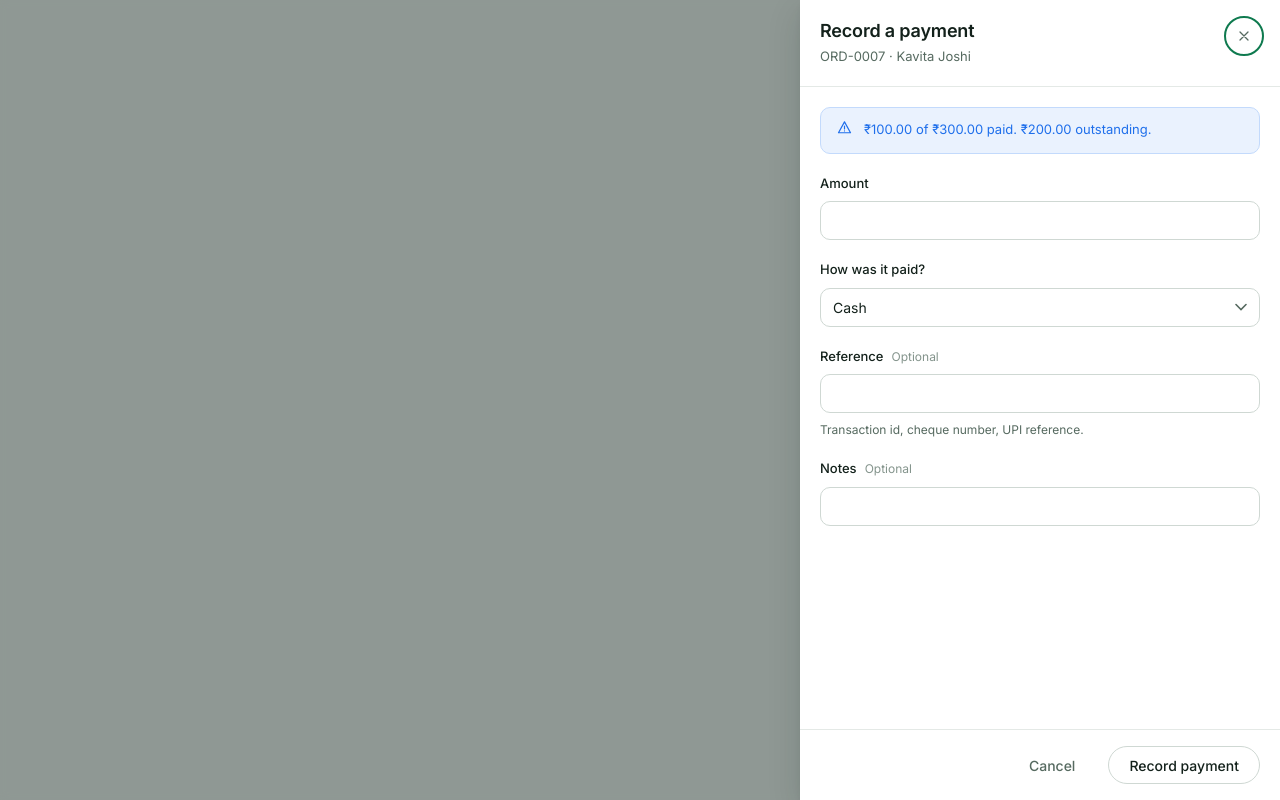
it: OrderPaymentDrawer › refuses an amount of zero
Type "0" into the field labelled "Amount" at (1040, 220), box [820, 201, 1260, 240]
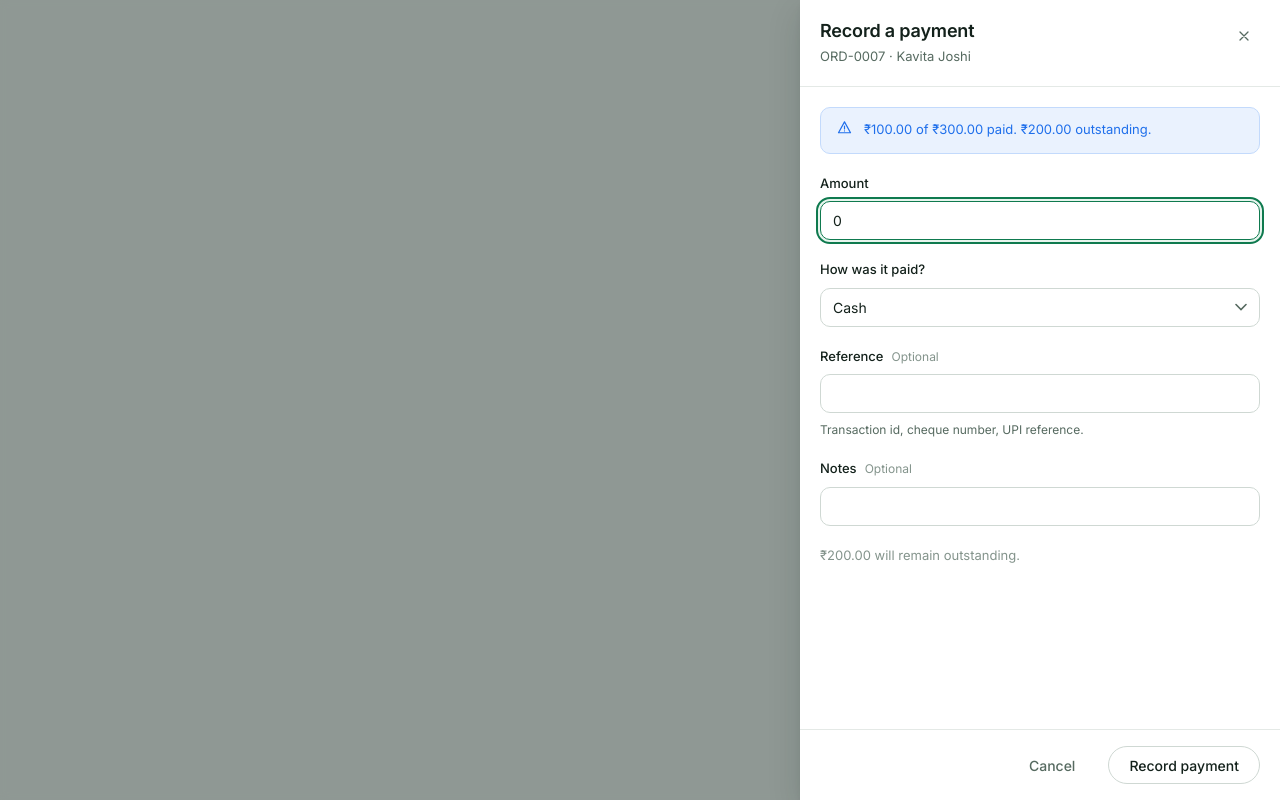
Click the button "Record payment" at (1184, 765), box [1108, 746, 1260, 784]
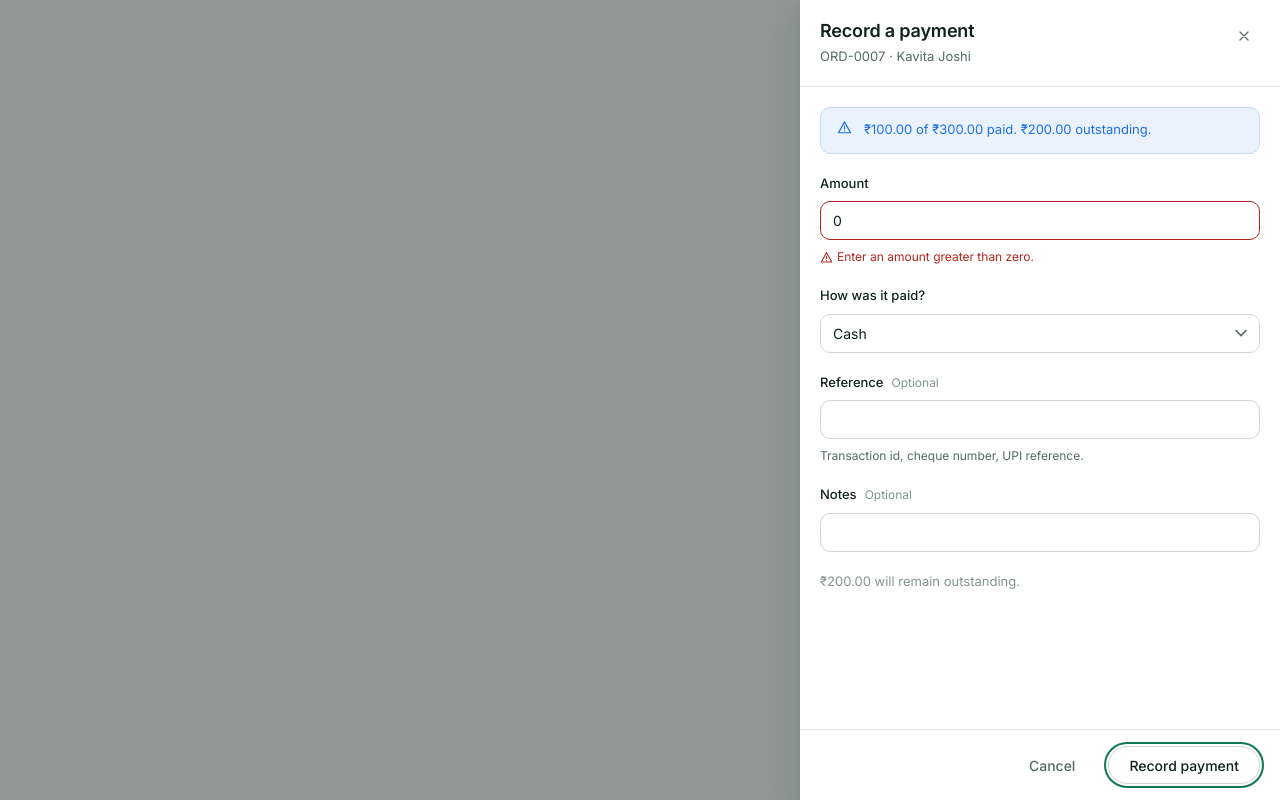
Check: the text "Enter an amount greater than zero." is shown, box [820, 249, 1034, 264]
